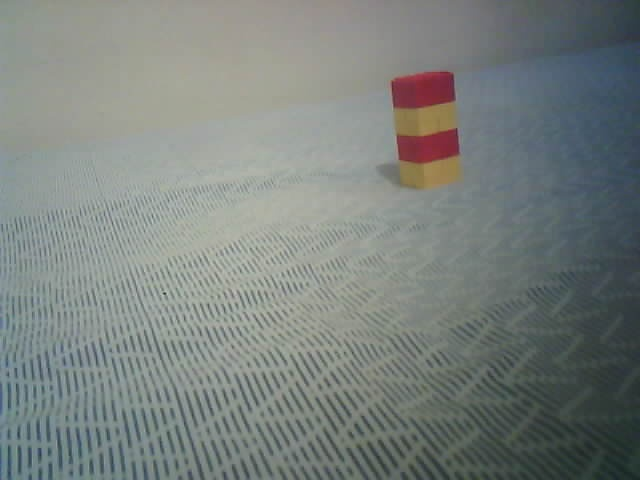lego: (389, 69, 461, 189)
